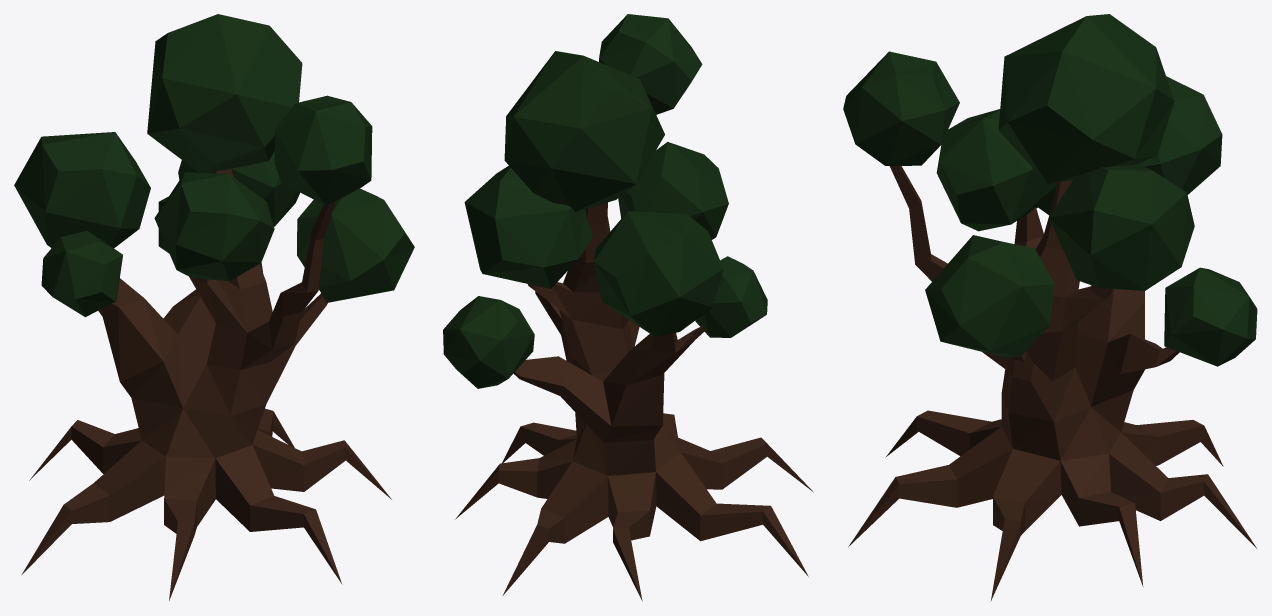
File: Dandelion_Chêne_Normal.FBX
3 views of the same model, side by side, from view 1: azimuth 30°, elevation 25°; view 2: azimuth 150°, elevation 25°; view 3: azimuth 270°, elevation 25° (orthographic). The views are drawn at different scales.
Parts seen in each view (by area): view 1: Cylinder059; view 2: Cylinder059; view 3: Cylinder059.
Part boxes in pixels (bbox=[...]): Cylinder059: bbox=[14, 14, 414, 600]; Cylinder059: bbox=[443, 14, 813, 601]; Cylinder059: bbox=[843, 14, 1257, 601].
Bounding box in the file's own units: 1416 × 1914 × 1352.
